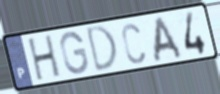4: (183, 9, 207, 57)
A: (152, 14, 185, 64)
C: (120, 21, 147, 66)
D: (85, 23, 120, 75)
G: (59, 30, 90, 76)
H: (27, 33, 63, 84)
